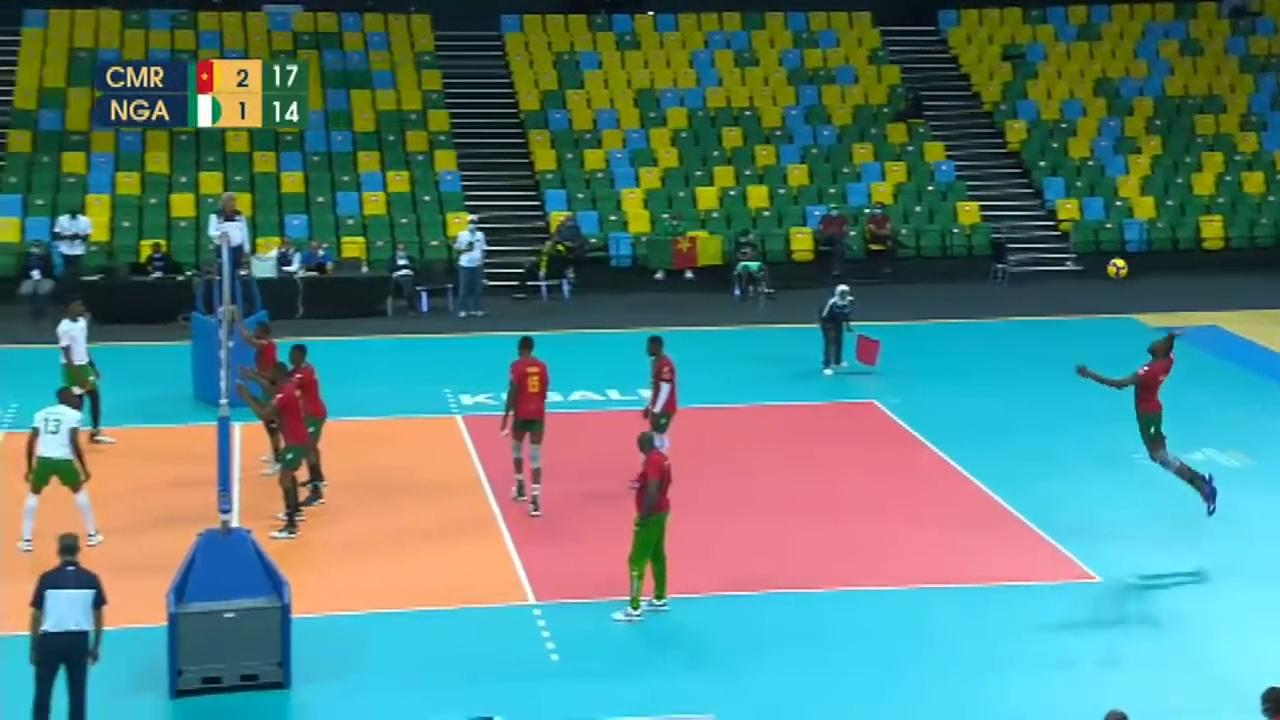player: (1068, 332, 1221, 524), (23, 388, 118, 546), (251, 362, 316, 542), (281, 344, 334, 513), (59, 300, 115, 446), (500, 339, 549, 505), (627, 330, 682, 459), (241, 320, 286, 474)
refree: (21, 530, 112, 720), (214, 192, 257, 306), (818, 280, 854, 374)
